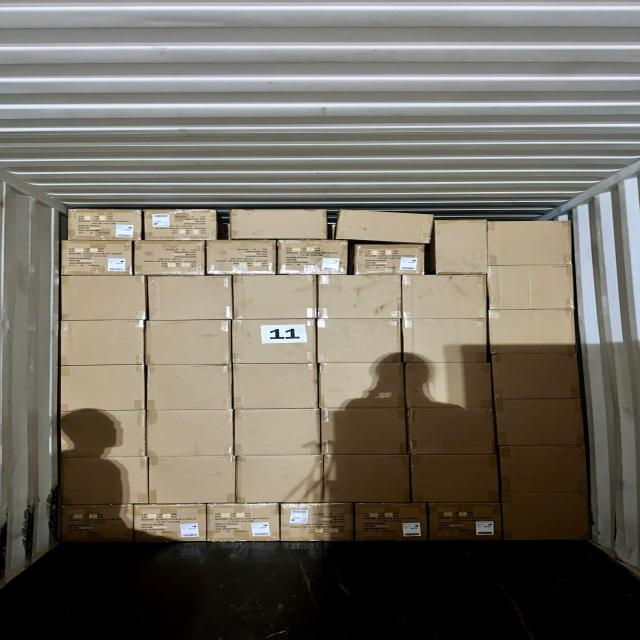Carton: (503, 490, 592, 542), (404, 358, 494, 407), (149, 456, 237, 506), (414, 454, 502, 504), (502, 446, 588, 497), (322, 454, 409, 504), (484, 218, 574, 266), (147, 408, 235, 457), (234, 407, 322, 456), (495, 399, 583, 448), (238, 456, 326, 505), (64, 457, 150, 507), (410, 406, 499, 454), (232, 359, 319, 408), (322, 407, 410, 455), (65, 408, 149, 458), (486, 264, 577, 310), (487, 310, 577, 356), (492, 351, 580, 398), (321, 359, 407, 407), (402, 319, 488, 367), (401, 273, 488, 320), (145, 321, 231, 368), (146, 362, 232, 409), (61, 321, 146, 368), (65, 362, 148, 410), (228, 321, 316, 366), (318, 320, 404, 366), (230, 274, 316, 320), (60, 275, 146, 321), (332, 208, 437, 245), (149, 275, 236, 319), (319, 274, 404, 319), (431, 218, 492, 276), (228, 208, 330, 240), (203, 506, 280, 545), (58, 507, 133, 547), (136, 506, 210, 546), (282, 505, 356, 545), (430, 506, 504, 546), (357, 502, 429, 542), (66, 206, 136, 244), (278, 240, 347, 278), (204, 238, 274, 275), (60, 243, 131, 279), (138, 207, 214, 240), (138, 243, 206, 279), (353, 246, 425, 278)
